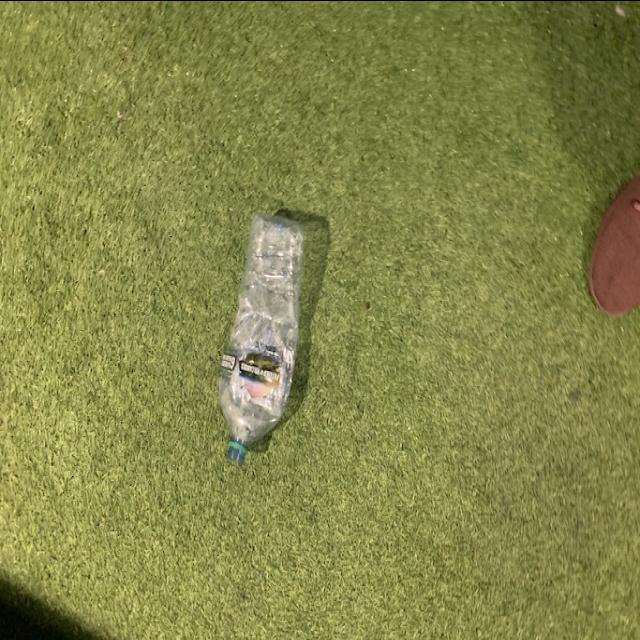PET: (216, 208, 316, 470)
